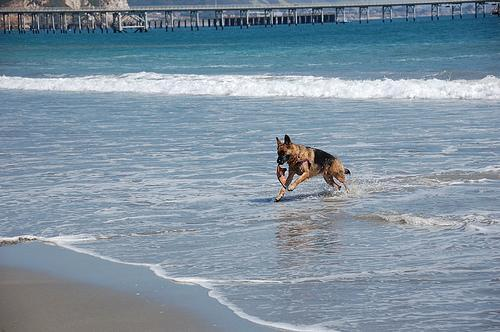German_shepherd: (273, 134, 351, 203)
